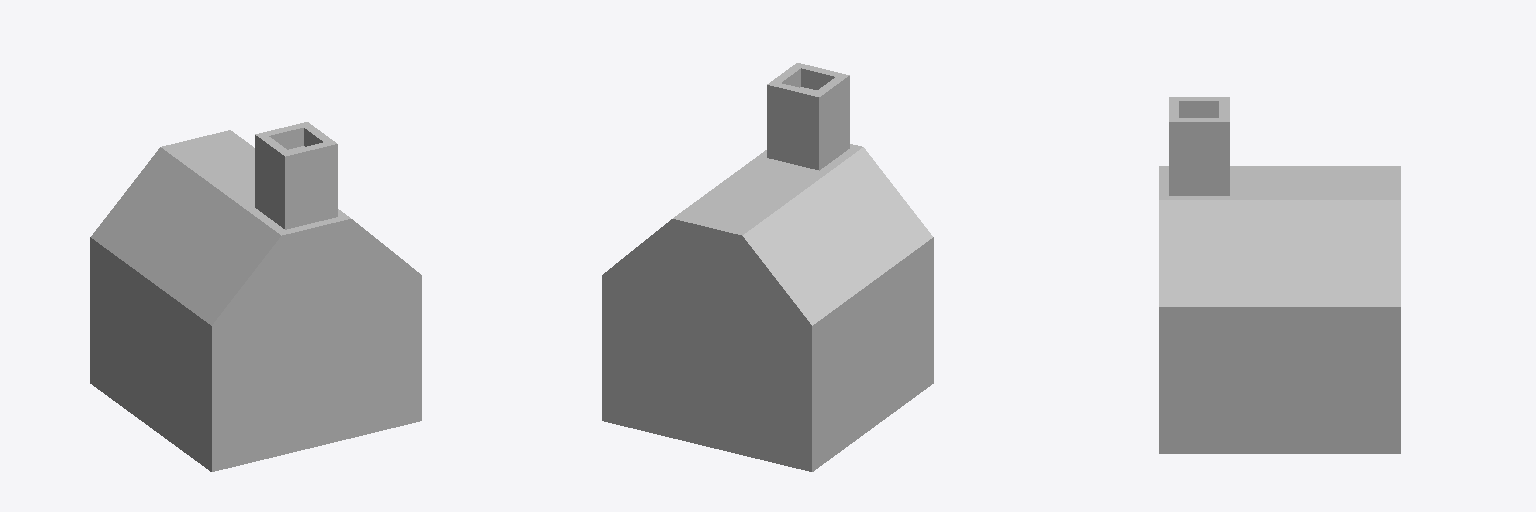
The model's file is coke_oven.obj.
The picture shows the model from 3 angles: view 1: azimuth 30°, elevation 25°; view 2: azimuth 150°, elevation 25°; view 3: azimuth 270°, elevation 25°; orthographic projection.
Parts seen in each view (by area): view 1: cube; view 2: cube; view 3: cube.
Part boxes in pixels (left/top/right/bottom): cube: left=90, top=122, right=421, bottom=471; cube: left=602, top=63, right=933, bottom=471; cube: left=1159, top=97, right=1400, bottom=453.
Size of the model in its own units: 3 by 4 by 3.